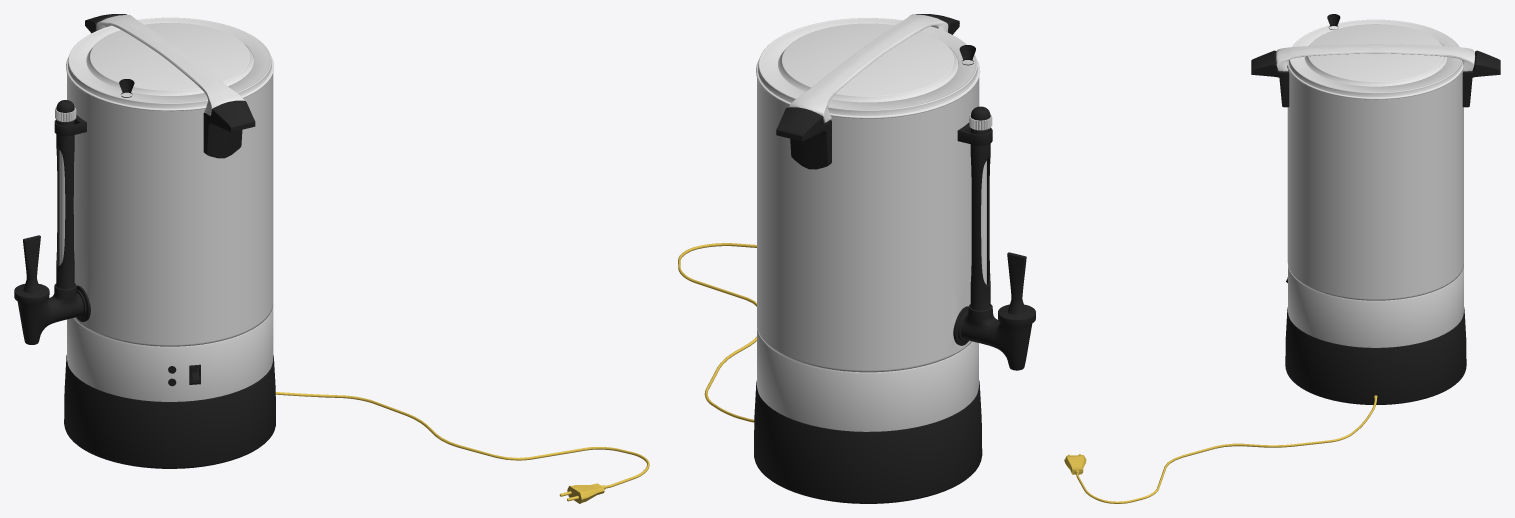
File: kettle.glb
The picture shows the model from 3 angles, left to right: view 1: azimuth 30°, elevation 25°; view 2: azimuth 150°, elevation 25°; view 3: azimuth 270°, elevation 25°; orthographic projection. The views are drawn at different scales.
Parts seen in each view (by area): view 1: ANIMO THERMOPOT WKT20N.009, Circle, ANIMO THERMOPOT WKT20N.014, ANIMO THERMOPOT WKT20N.011, Circle.008, ANIMO THERMOPOT WKT20N.015, ANIMO THERMOPOT WKT20N.013, Circle.001; view 2: ANIMO THERMOPOT WKT20N.009, Circle, ANIMO THERMOPOT WKT20N.014, ANIMO THERMOPOT WKT20N.011, Circle.008, ANIMO THERMOPOT WKT20N.015, ANIMO THERMOPOT WKT20N.013, Circle.001, Circle.005, Circle.007; view 3: ANIMO THERMOPOT WKT20N.009, Circle, ANIMO THERMOPOT WKT20N.014, ANIMO THERMOPOT WKT20N.011, ANIMO THERMOPOT WKT20N.015, ANIMO THERMOPOT WKT20N.013, Circle.001.
Boxes of the visible parts, box(x1,y1,x2,y2) form: ANIMO THERMOPOT WKT20N.009: box(67, 73, 273, 346); Circle: box(64, 355, 275, 468); ANIMO THERMOPOT WKT20N.014: box(66, 17, 273, 111); ANIMO THERMOPOT WKT20N.011: box(67, 305, 273, 401); Circle.008: box(14, 100, 90, 344); ANIMO THERMOPOT WKT20N.015: box(96, 15, 244, 115); ANIMO THERMOPOT WKT20N.013: box(85, 14, 255, 158); Circle.001: box(168, 364, 649, 503); ANIMO THERMOPOT WKT20N.009: box(757, 78, 979, 372); Circle: box(754, 380, 982, 503); ANIMO THERMOPOT WKT20N.014: box(756, 18, 980, 118); ANIMO THERMOPOT WKT20N.011: box(757, 329, 978, 431); Circle.008: box(953, 106, 1035, 370); ANIMO THERMOPOT WKT20N.015: box(788, 14, 948, 122); ANIMO THERMOPOT WKT20N.013: box(776, 14, 959, 169); Circle.001: box(678, 243, 756, 422); Circle.005: box(981, 160, 986, 284); Circle.007: box(957, 122, 992, 145); ANIMO THERMOPOT WKT20N.009: box(1287, 66, 1463, 300); Circle: box(1285, 307, 1466, 404); ANIMO THERMOPOT WKT20N.014: box(1287, 19, 1463, 99); ANIMO THERMOPOT WKT20N.011: box(1288, 266, 1463, 347); ANIMO THERMOPOT WKT20N.015: box(1276, 44, 1475, 71); ANIMO THERMOPOT WKT20N.013: box(1251, 50, 1500, 107); Circle.001: box(1064, 277, 1377, 503).
Size of the model in its own units: 0.772 by 0.5904 by 0.7161.
